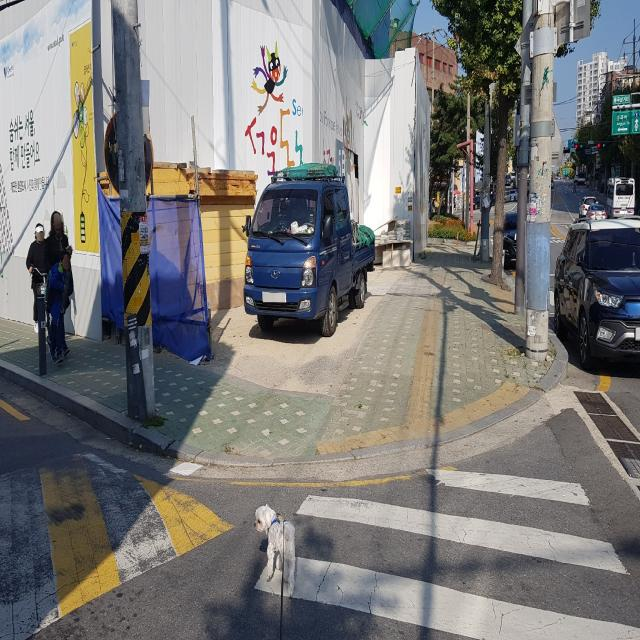횡단보도: (255, 459, 640, 640)
